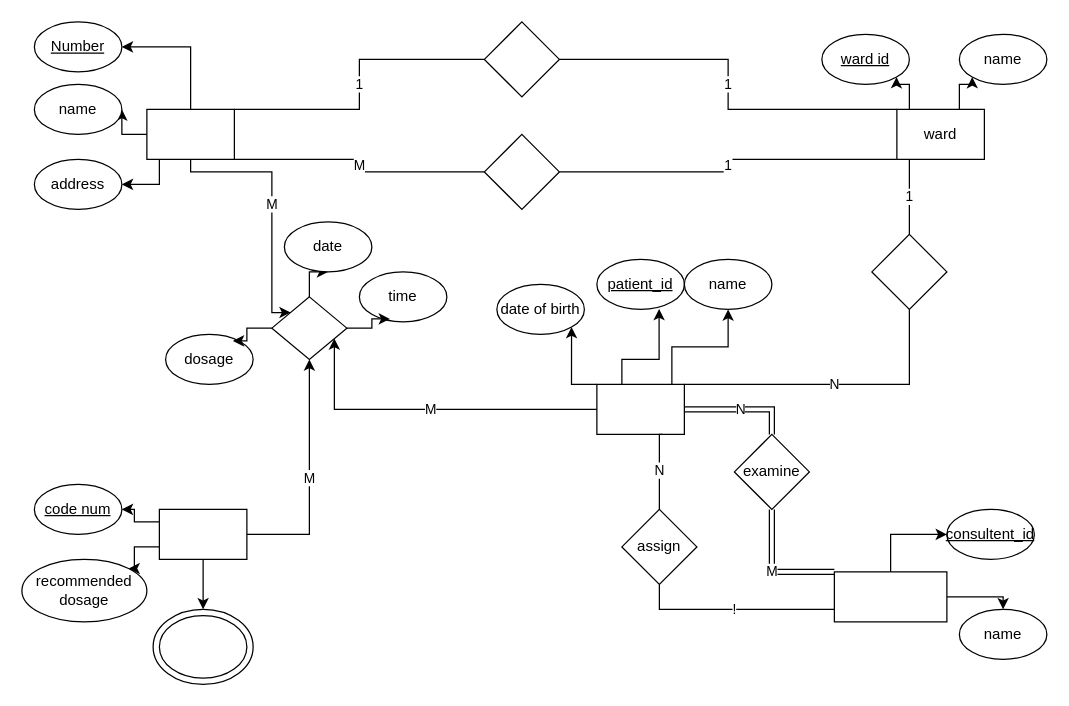
Some shapes in this 1069 by 706 pixel diagram are drawn without their labels. The shapes that lost their labels are listed below. From the top down, each one's centre as x and y in pixels, then its label:
the point at 521,59: supervise
the point at 190,133: nurse
the point at 521,171: serve
the point at 909,271: host
the point at 309,327: gives
the point at 640,408: patients
the point at 202,533: drags
the point at 890,596: consultent
the point at 202,646: barnd
